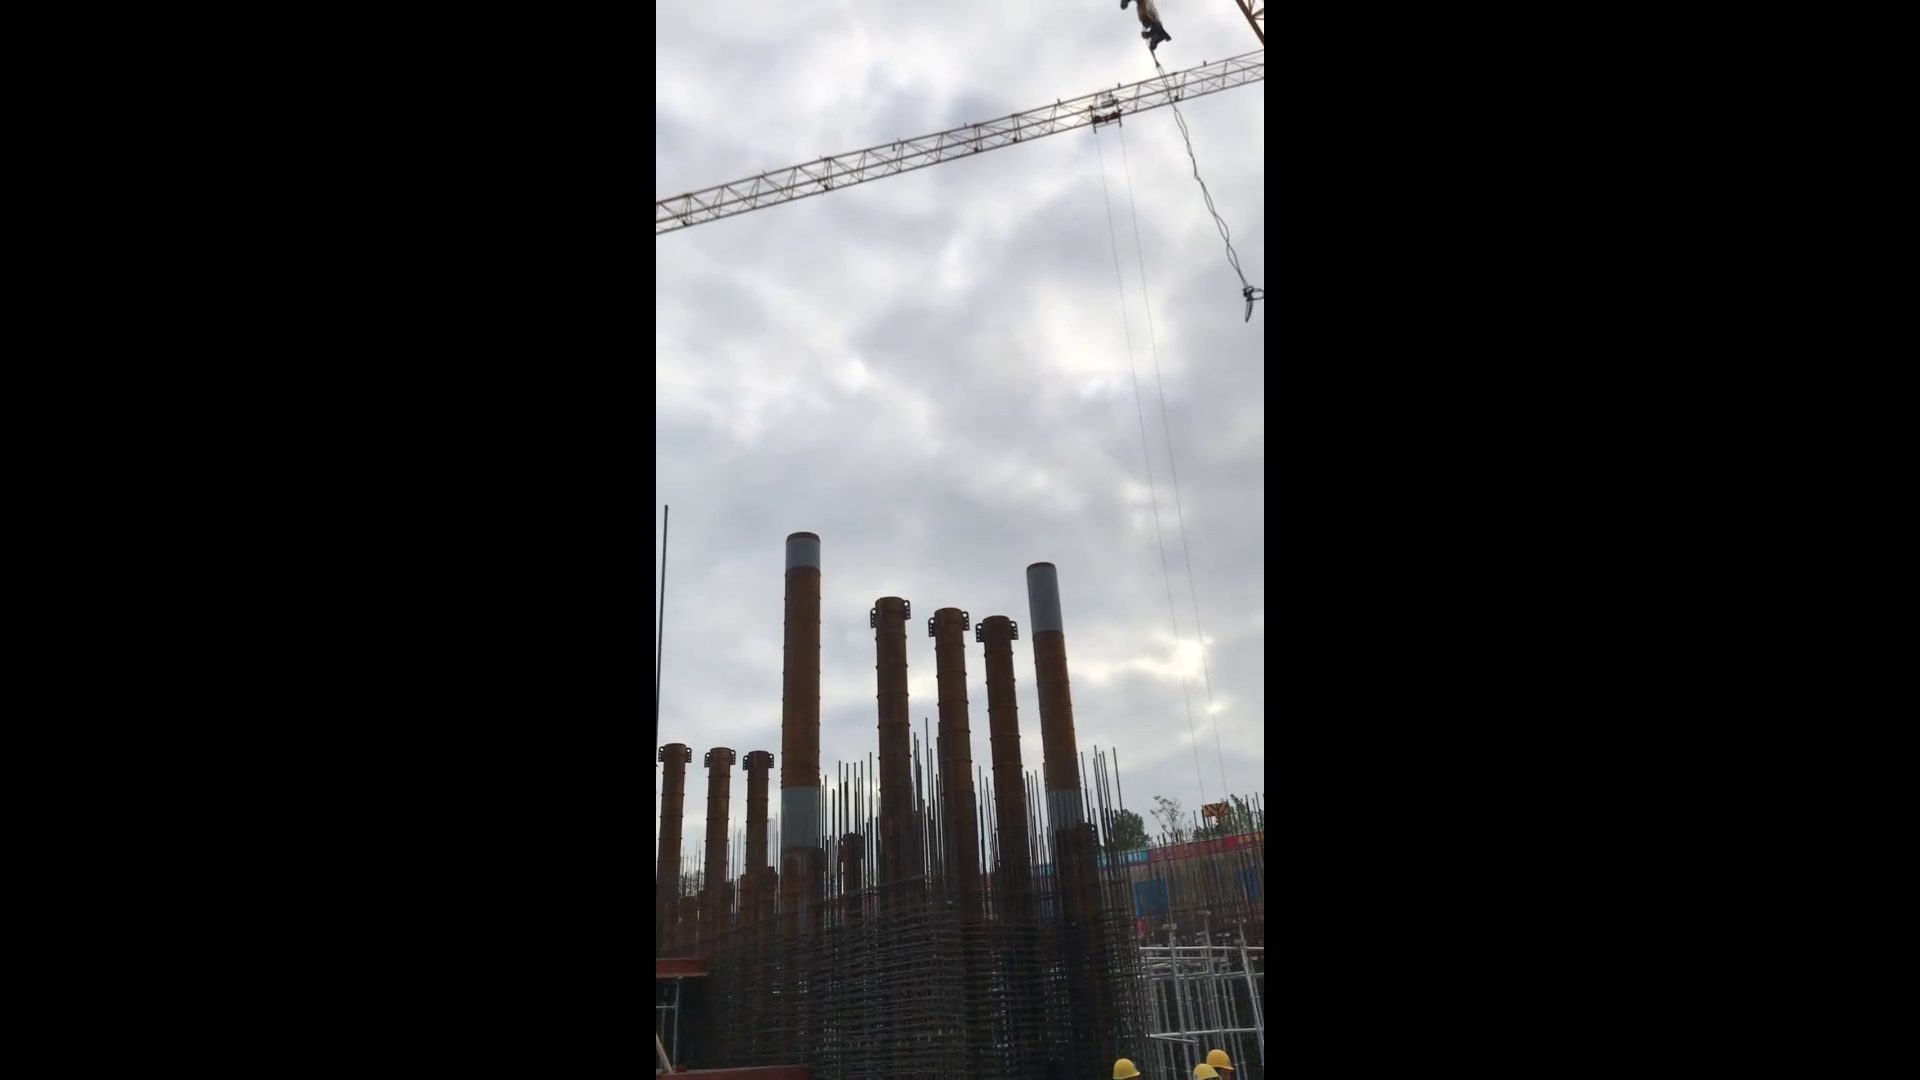helmet: (1109, 1056, 1143, 1080), (1207, 1046, 1234, 1072), (1192, 1062, 1222, 1080)
